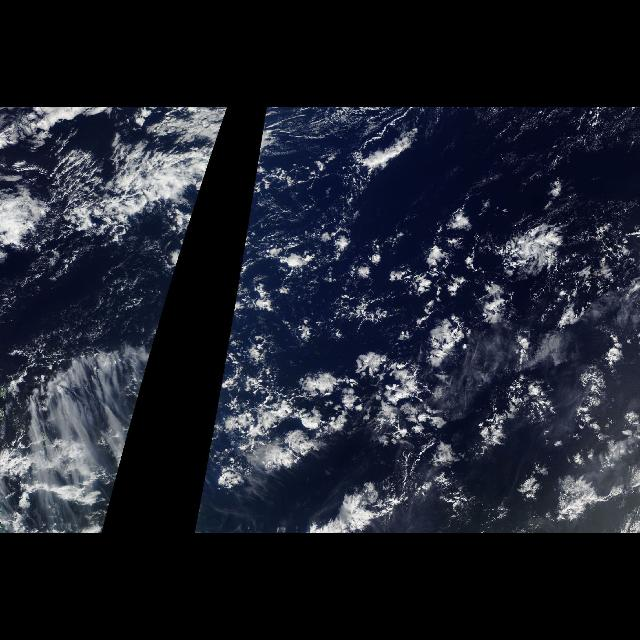Flower: (246, 221, 640, 477)
